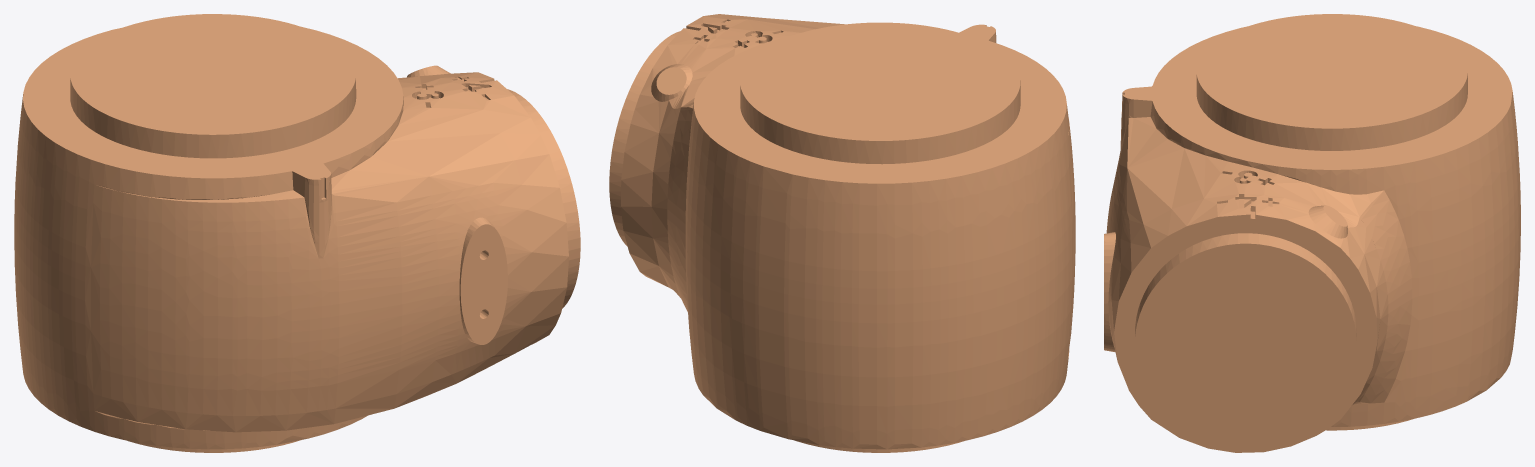
3 views of the same model, side by side, from view 1: azimuth 30°, elevation 25°; view 2: azimuth 150°, elevation 25°; view 3: azimuth 270°, elevation 25° (orthographic). The views are drawn at different scales.
Visible parts, largest first — view 1: /link_3/link_3_003-mesh/0; view 2: /link_3/link_3_003-mesh/0; view 3: /link_3/link_3_003-mesh/0.
Boxes of the visible parts, x1,y1,x2,y2 form: /link_3/link_3_003-mesh/0: (14,14,580,452); /link_3/link_3_003-mesh/0: (609,14,1075,452); /link_3/link_3_003-mesh/0: (1104,14,1520,452).
Bounding box in the file's own units: 0.1935 × 0.135 × 0.169.
